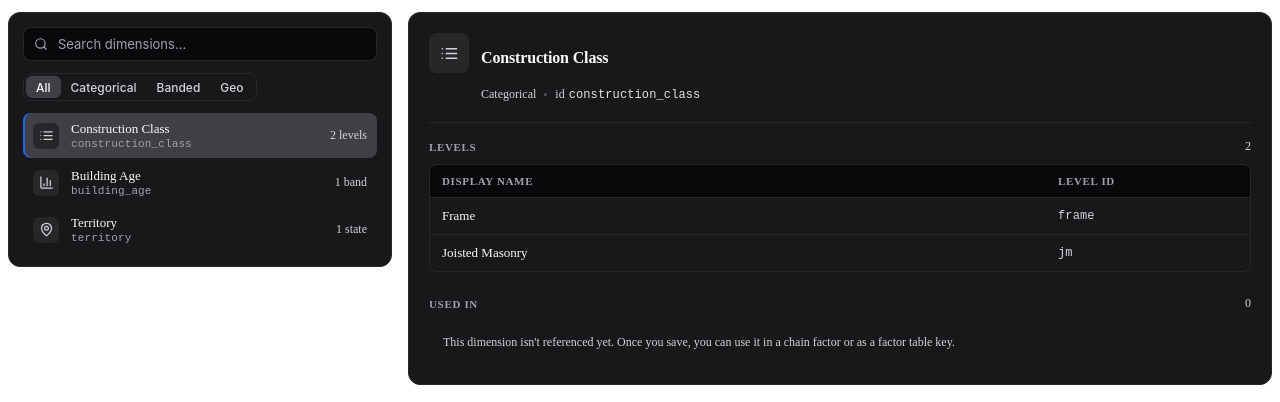
Test case: <DimensionsWorkspaceV2> — shell (P1) › filters the list by search
Type "territ" into the search field labelled "Search dimensions".
click(213, 44); type("territ")  # box [56,35,370,53]
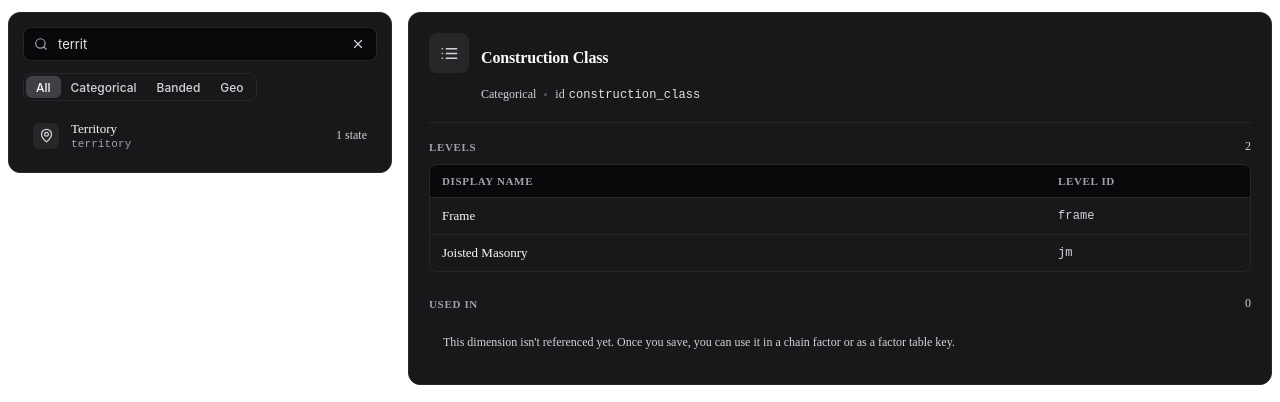
Check: the text "Territory" is shown, box [71,121,117,136]
Check: the button "Building Age" is gone
